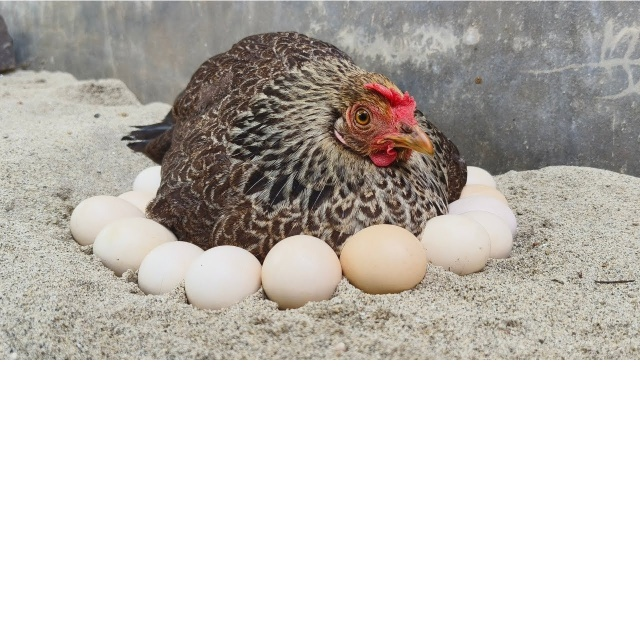trung_ga: (339, 220, 429, 295), (258, 233, 346, 309), (182, 244, 266, 315), (416, 210, 493, 278), (89, 215, 176, 272), (134, 239, 205, 301)
